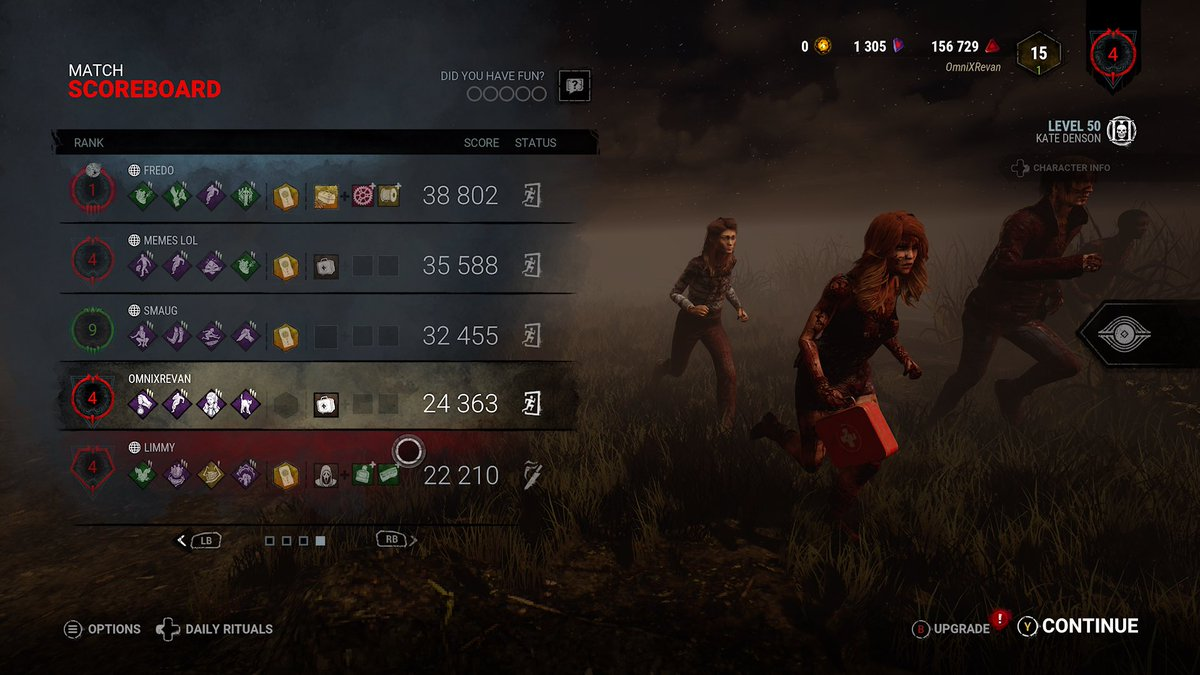adrenaline: (126, 181, 158, 210), (229, 250, 261, 279)
bbq_and_chilli: (159, 459, 191, 488)
borrowed_time: (125, 389, 157, 418)
dance_with_me: (161, 320, 193, 349)
dead_hard: (193, 181, 225, 210), (161, 250, 193, 279), (160, 389, 192, 418)
decisive_strike: (230, 320, 262, 349)
hex:ruin: (195, 459, 227, 488)
inner_healing: (195, 389, 227, 418)
iron_will: (195, 250, 227, 279)
lithe: (195, 320, 227, 349)
prove_thyself: (229, 180, 261, 209)
quick_and_quiet: (125, 321, 157, 350)
self_care: (160, 181, 192, 210)
sloppy_butcher: (125, 459, 157, 488)
spine_chill: (229, 389, 261, 418)
thrilling_tremors: (230, 459, 262, 488)
were_gonna_live_forever: (125, 250, 157, 279)
